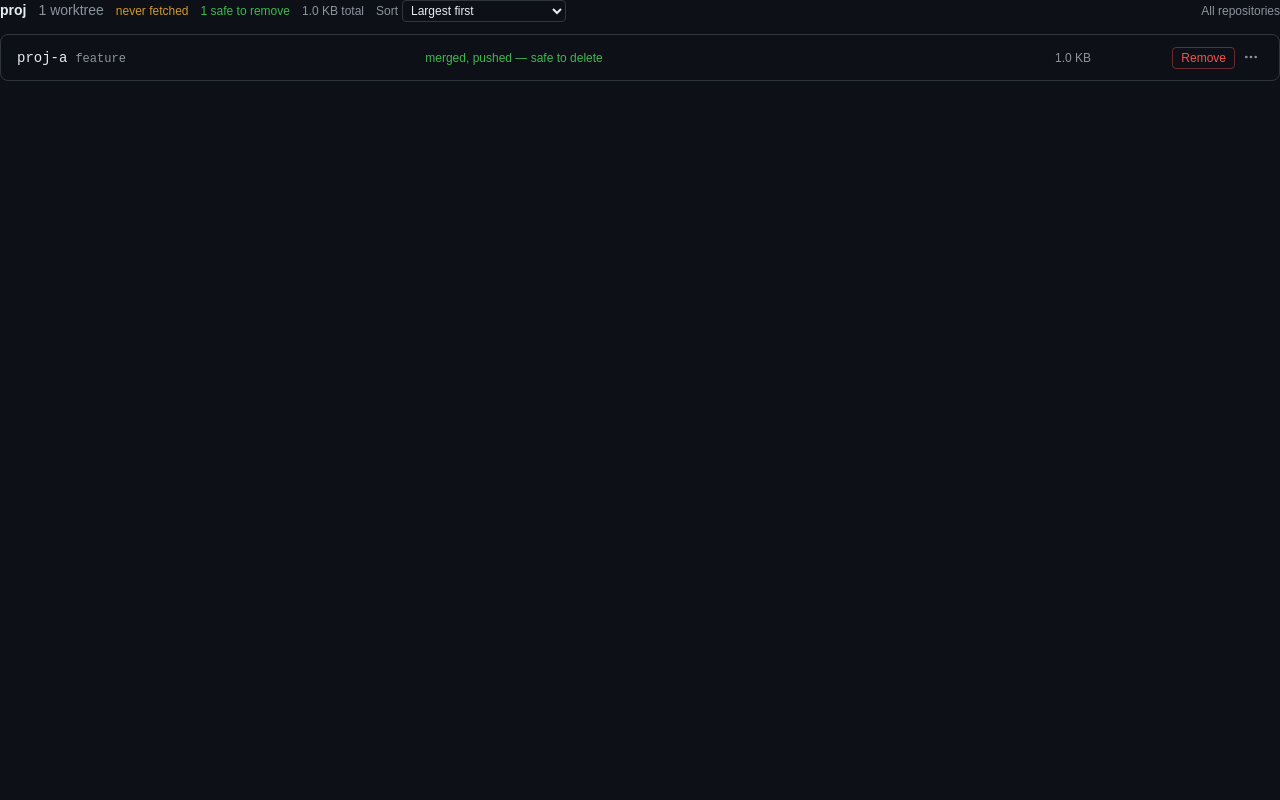
Test: WorktreesPage › cancelling removes nothing
Click the button "Remove". click: click(1204, 58)
box: [1172,46,1235,68]
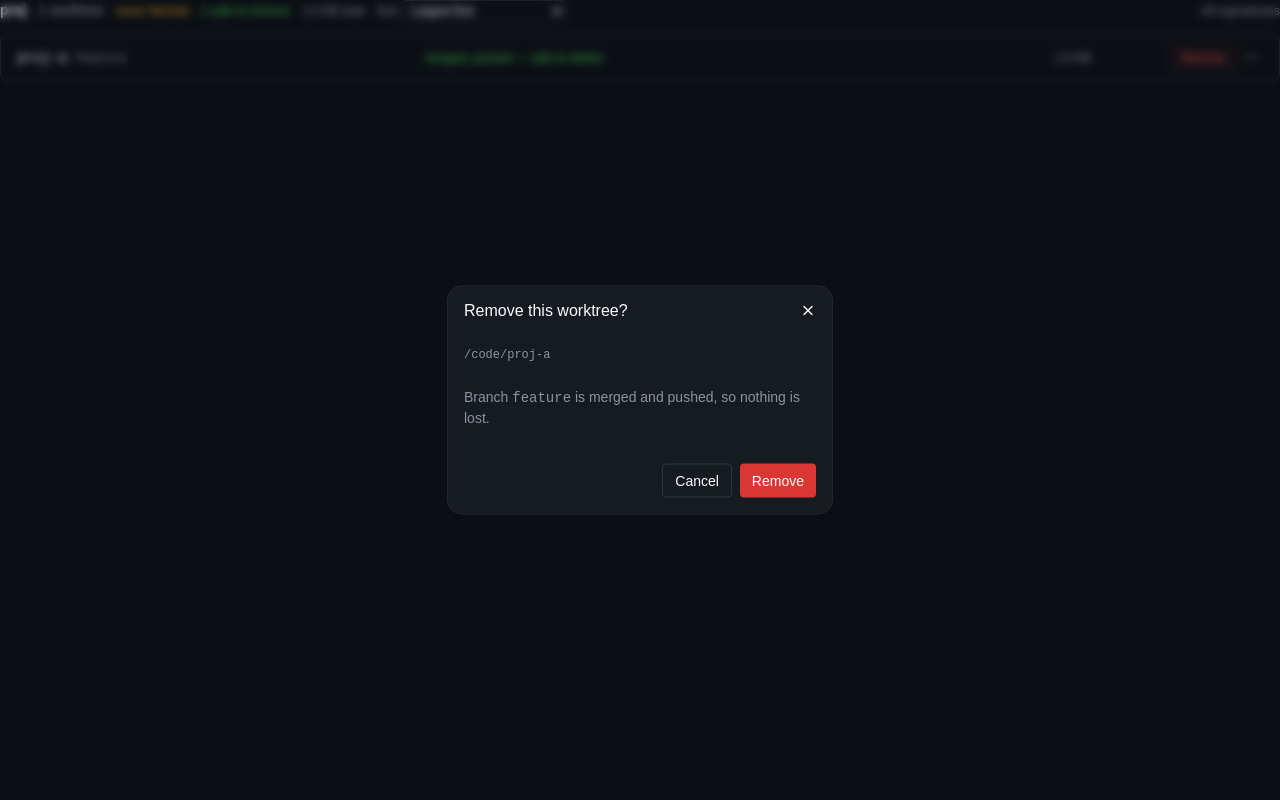
Click the button "Cancel". click: click(697, 480)
box: [662,464,732,498]
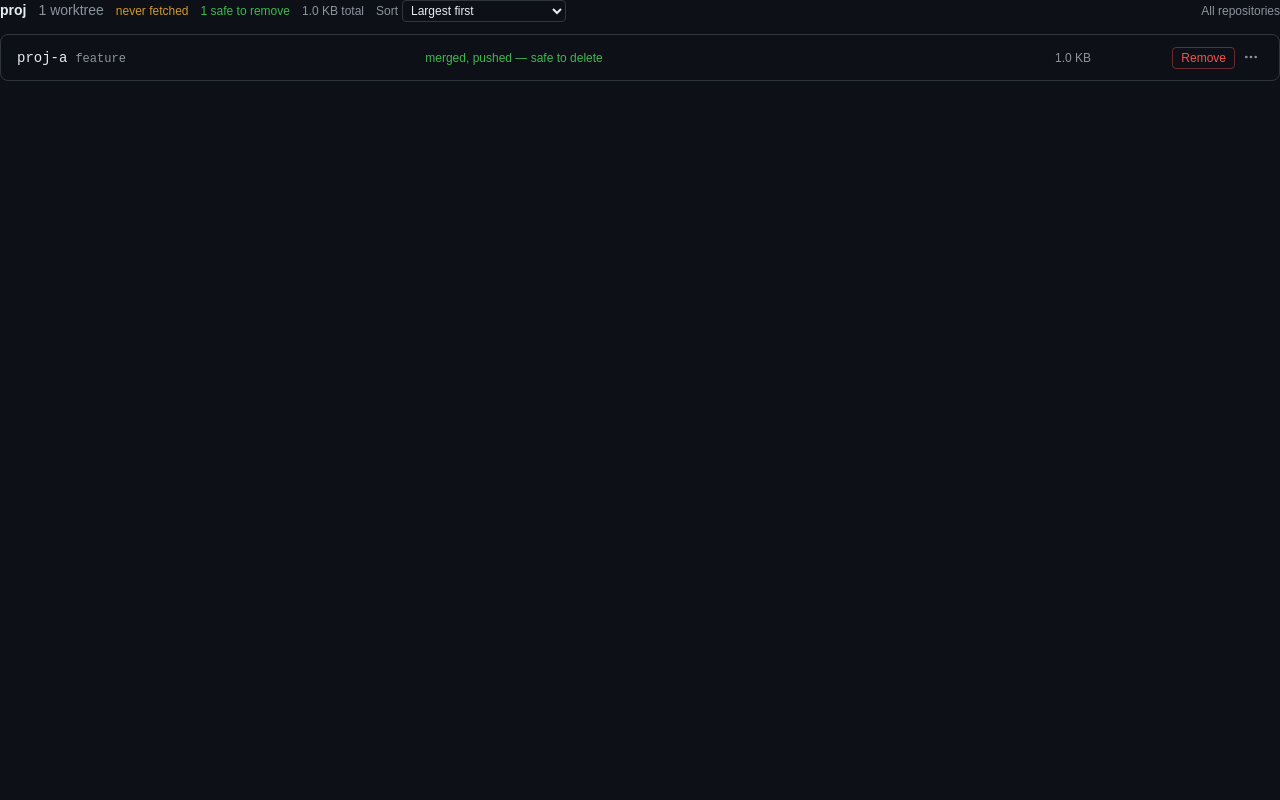
Now the dialog is gone
